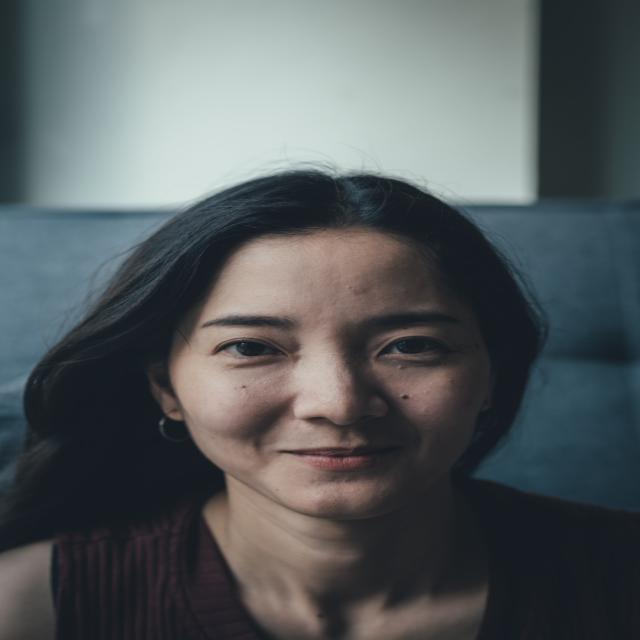adult: (10, 168, 640, 640)
